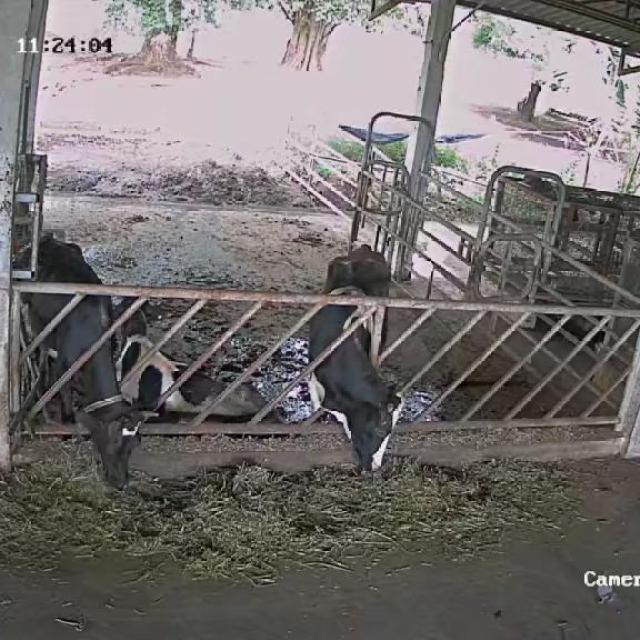feeding: (8, 219, 146, 508), (305, 241, 409, 482)
lying down: (117, 284, 286, 439)
